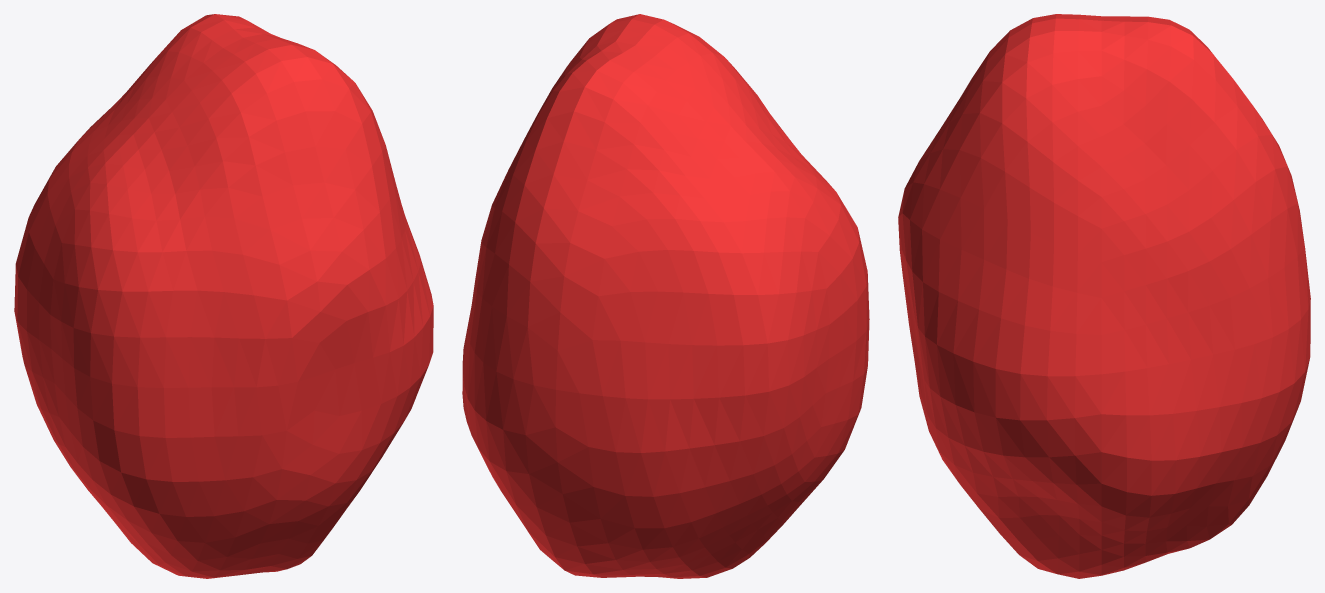
3 renders of one model, left to right at view 1: azimuth 30°, elevation 25°; view 2: azimuth 150°, elevation 25°; view 3: azimuth 270°, elevation 25°, orthographic. The views are drawn at different scales.
Bounding box in the file's own units: 0.8624 × 1.22 × 0.8354.
